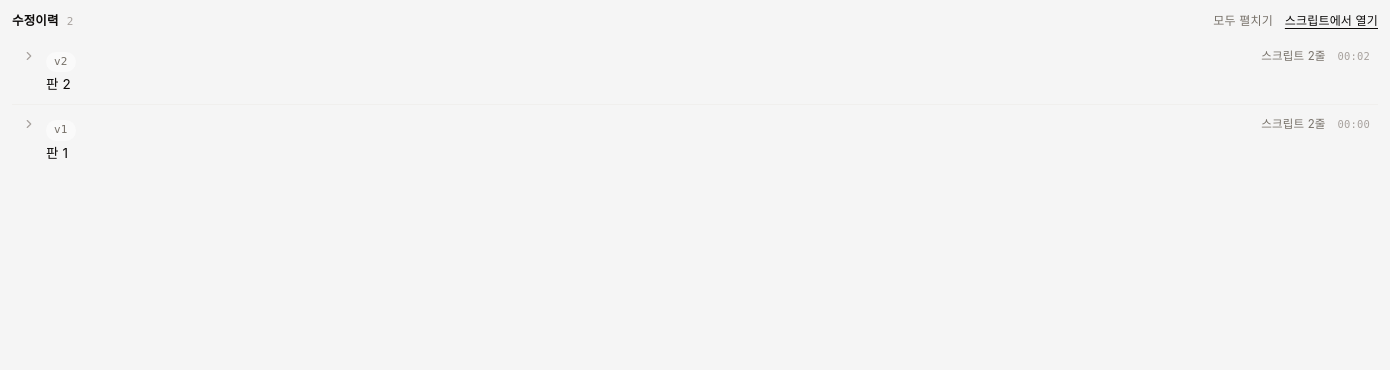
Test: ItemTrail › 모두 펼치기와 접기가 스크립트가 있는 단계 전체에 걸린다
Expected: the list item "v2 판 2 스크립트 2줄 00:02" is shown, [12,37,1378,104]
Click the button "모두 펼치기": x=1243, y=21 [1213,13,1273,29]
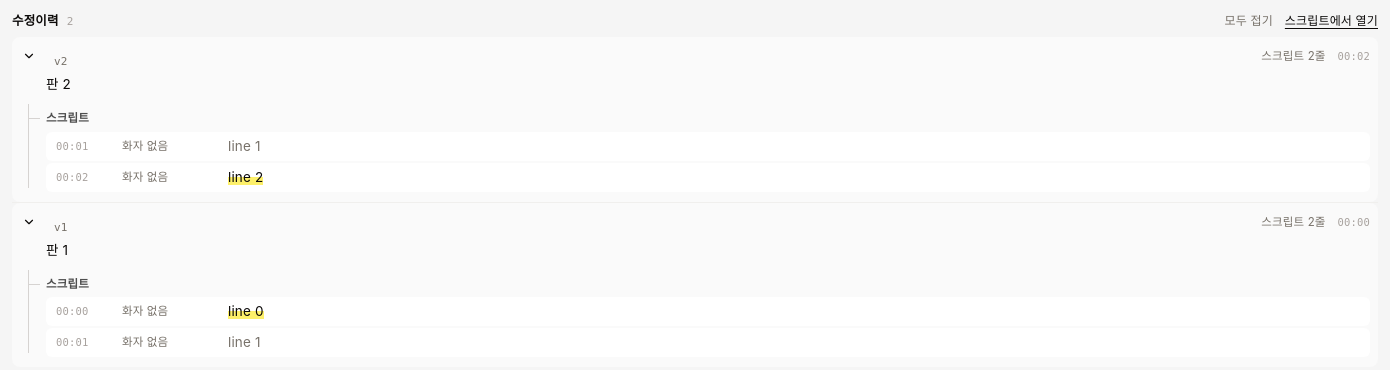
Now the button "모두 접기" is shown
Click the button "모두 접기": x=1249, y=21 [1224,13,1273,29]
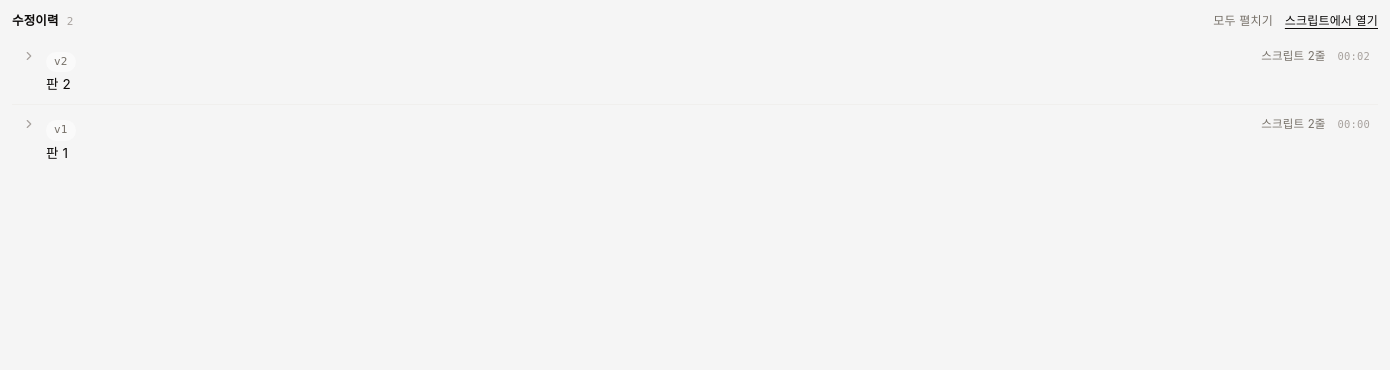
Now the button "모두 펼치기" is shown, box [1213,13,1273,29]
